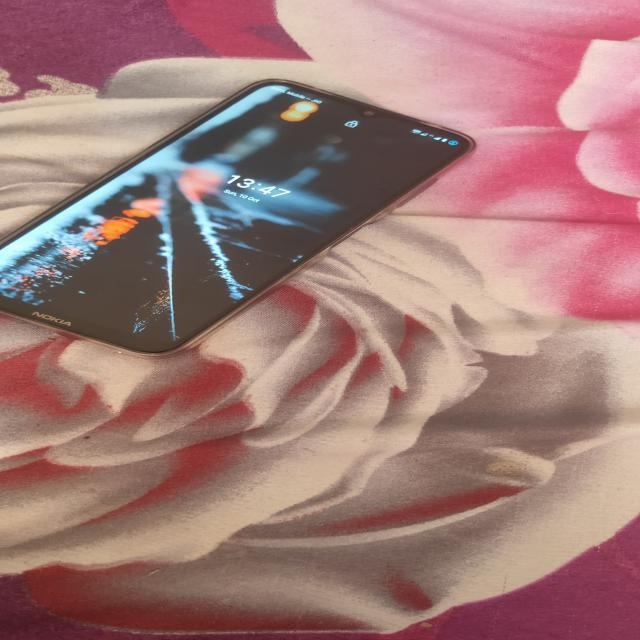Phone: (0, 74, 483, 364)
